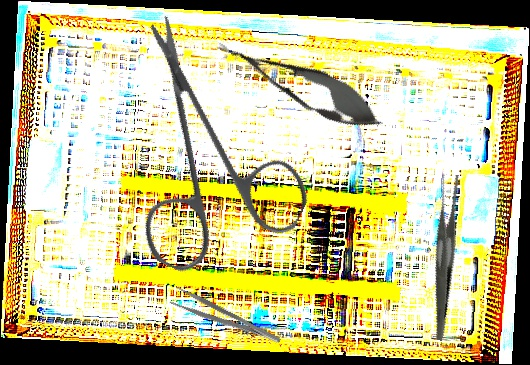Dressing Forceps: (384, 169, 502, 342), (168, 284, 283, 355)
Iris Scissors: (60, 12, 353, 309)
Micro Scissor: (206, 24, 393, 144)
